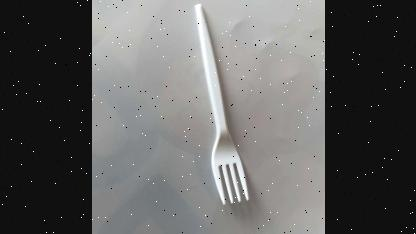Others: (187, 2, 249, 206)
